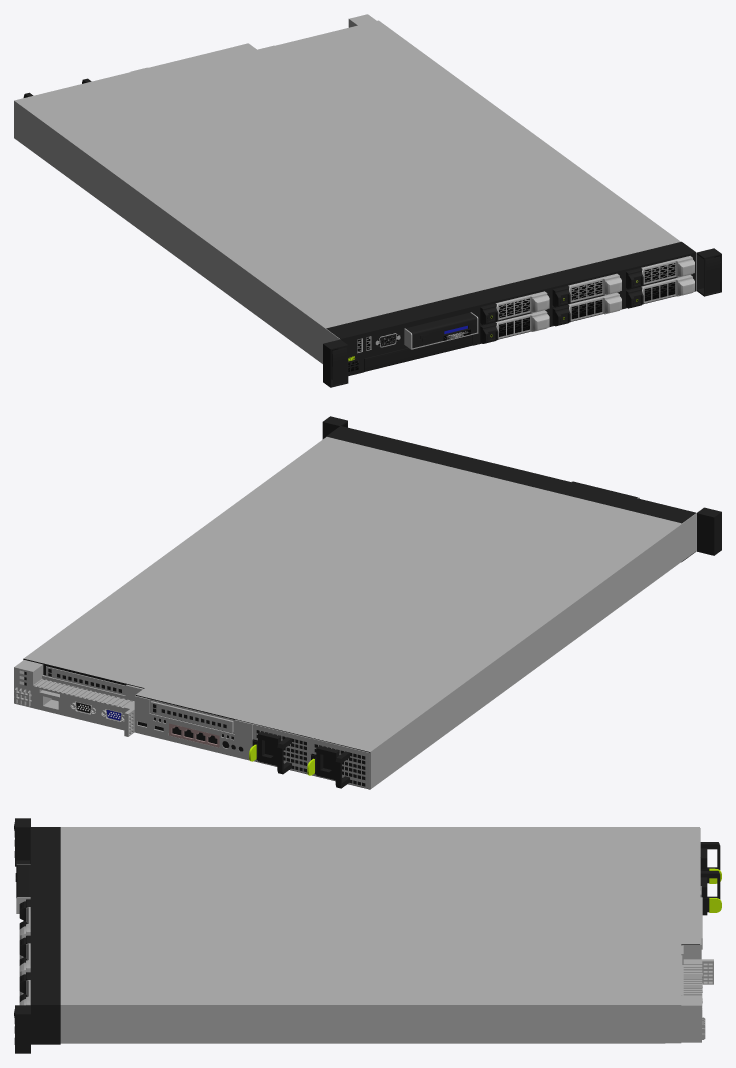
Rendered from Dell_R610.fbx.
The picture shows the model from 3 angles, top to bottom: view 1: azimuth 30°, elevation 25°; view 2: azimuth 150°, elevation 25°; view 3: azimuth 270°, elevation 25°; orthographic projection. The views are drawn at different scales.
Visible parts, largest first — view 1: Dell_R610; view 2: Dell_R610; view 3: Dell_R610.
Part boxes in pixels (box(x1,y1,x2,y2)): Dell_R610: box(14, 14, 721, 387); Dell_R610: box(14, 416, 721, 789); Dell_R610: box(14, 818, 721, 1053).
Size of the model in its own units: 478 by 45.44 by 730.
8 materials, 2 textured.
